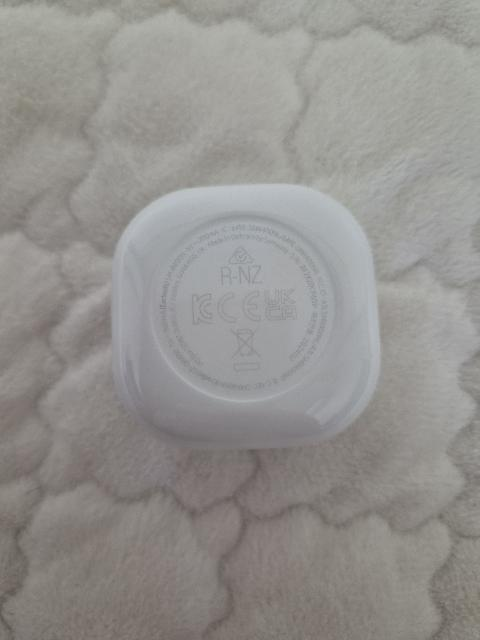earphone_case: (111, 183, 381, 451)
